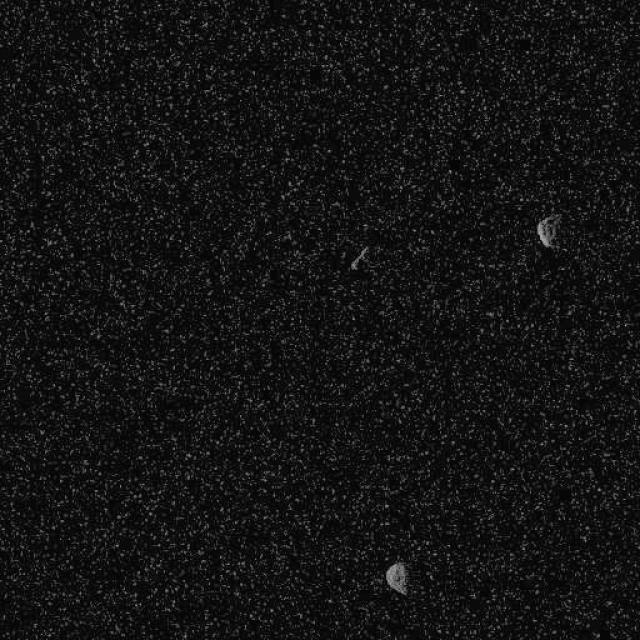D2: (535, 212, 561, 250), (383, 560, 408, 595), (349, 245, 369, 271)
